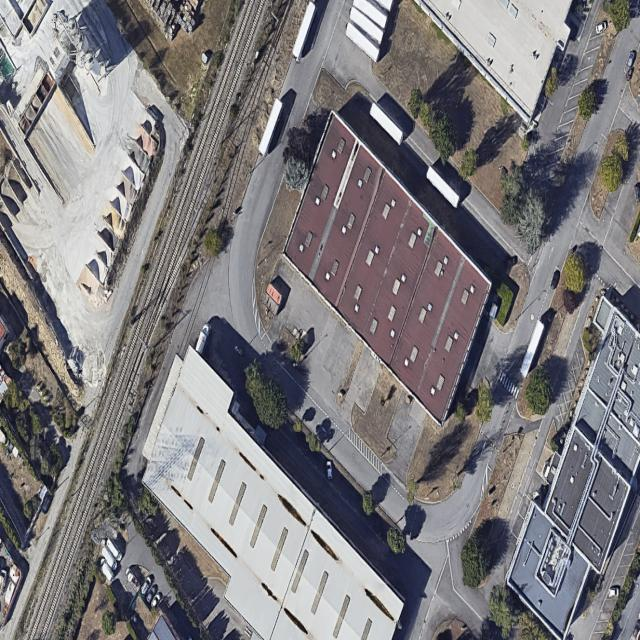immeuble: (87, 342, 417, 640), (234, 108, 538, 424), (476, 297, 640, 640), (422, 0, 571, 120)
